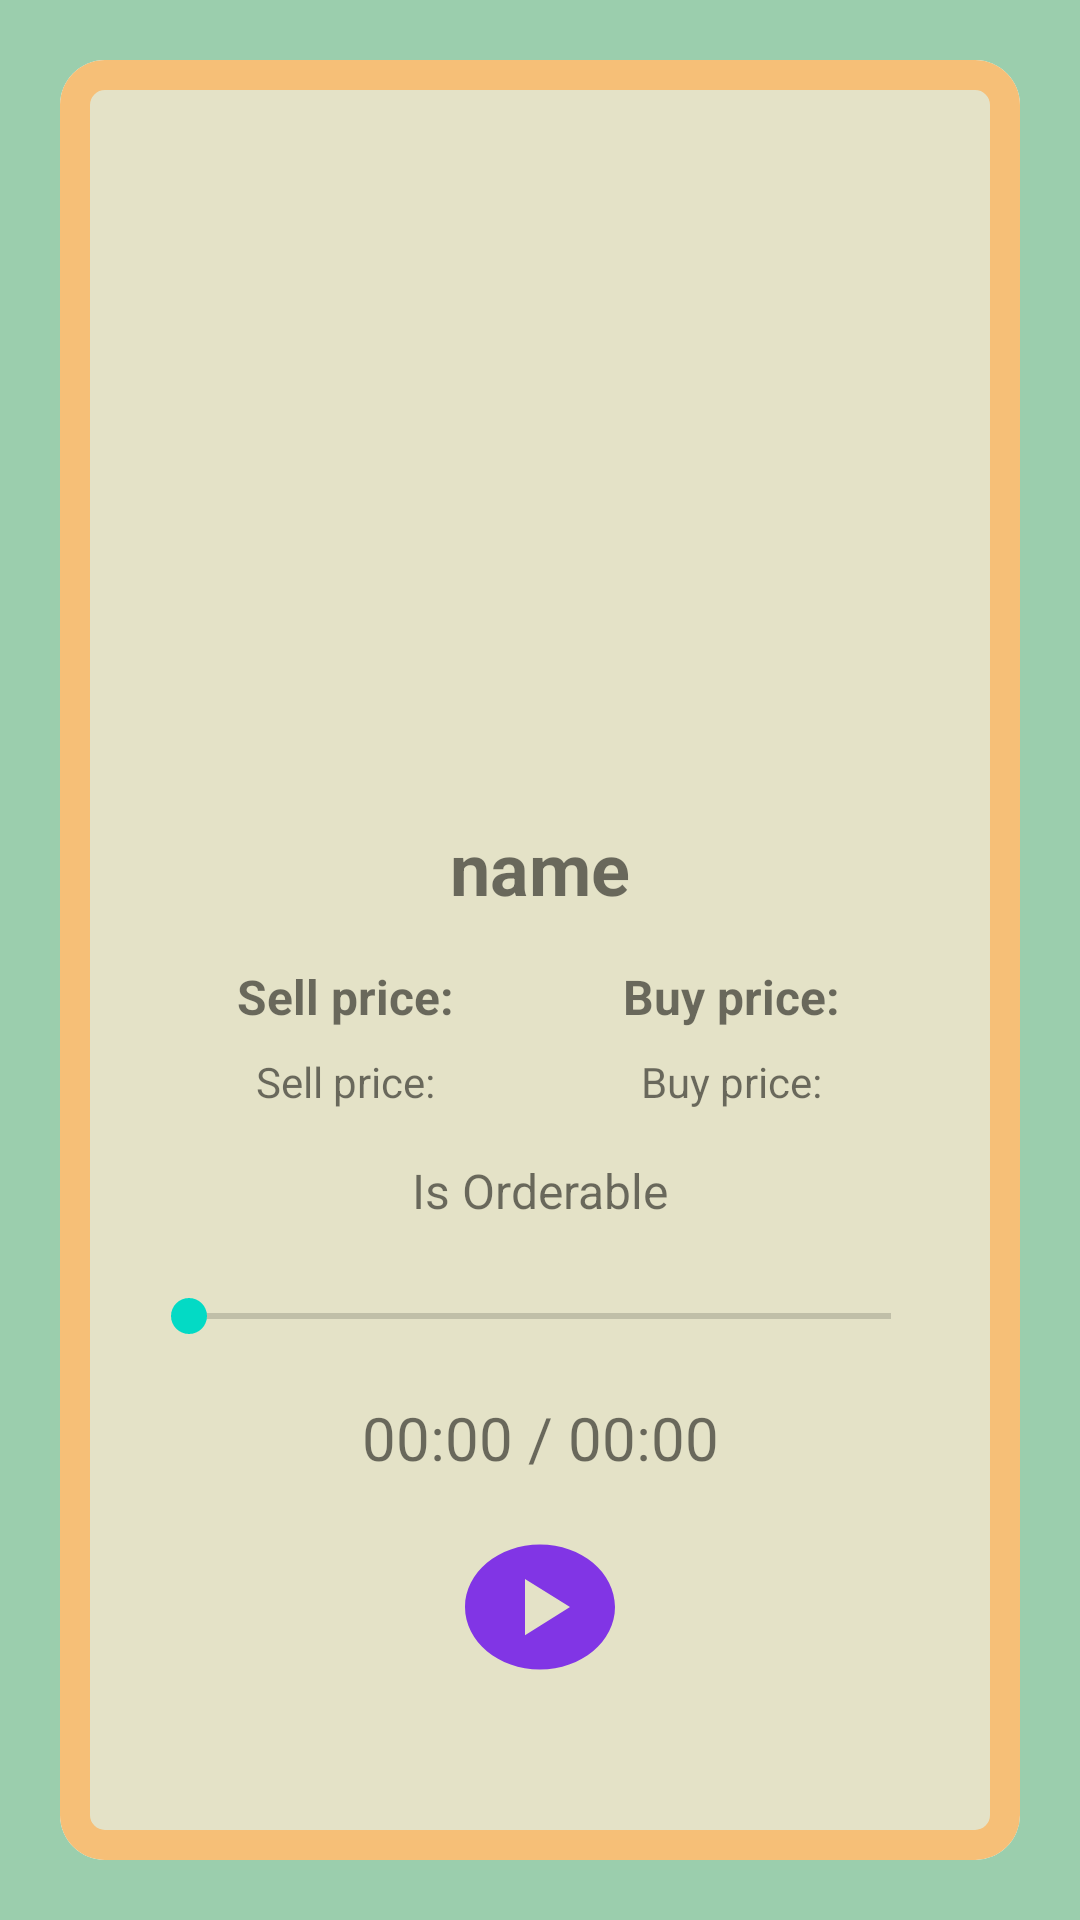

Where icons sit on this 1080×1920 app screen, as (x1, y1, x2, y2):
play: (465, 1544, 615, 1670)
